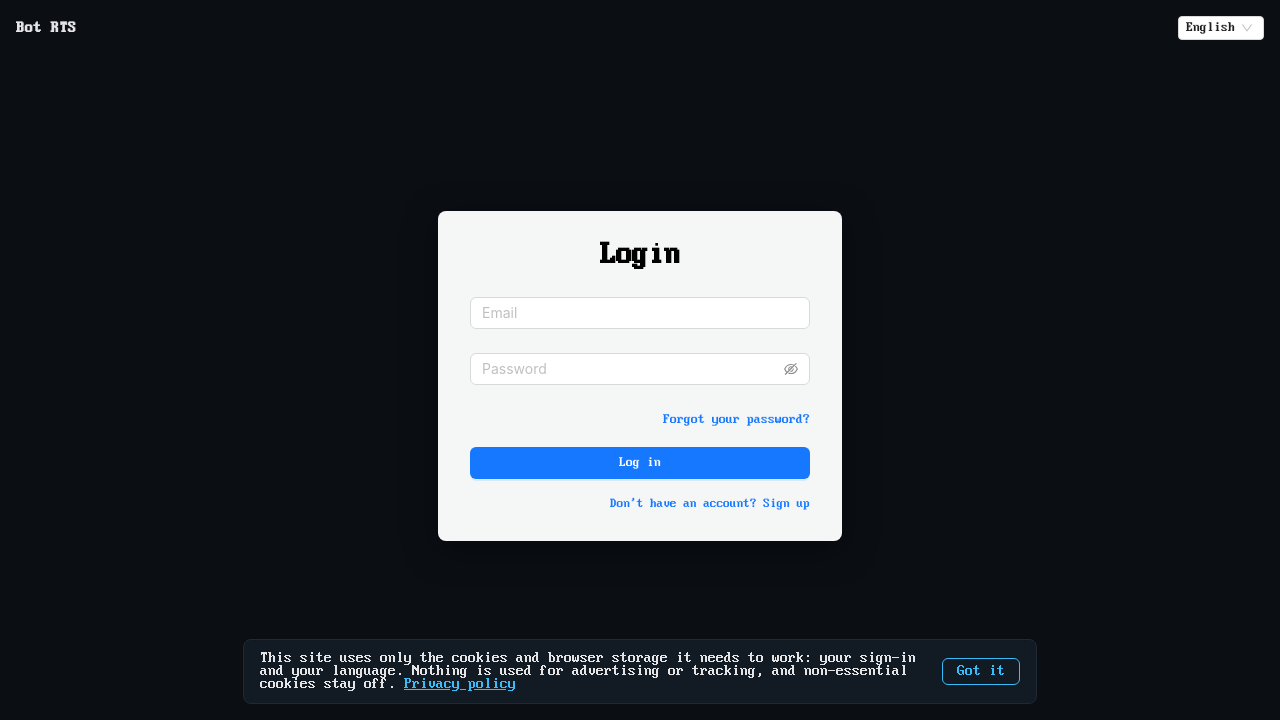
Test: AuthPage › switches between login and sign up
Check: the heading "Login" is shown, box [600,243,680,269]
Click the button "Don't have an account? Sign up".
click(710, 504)  # box [610,499,810,509]
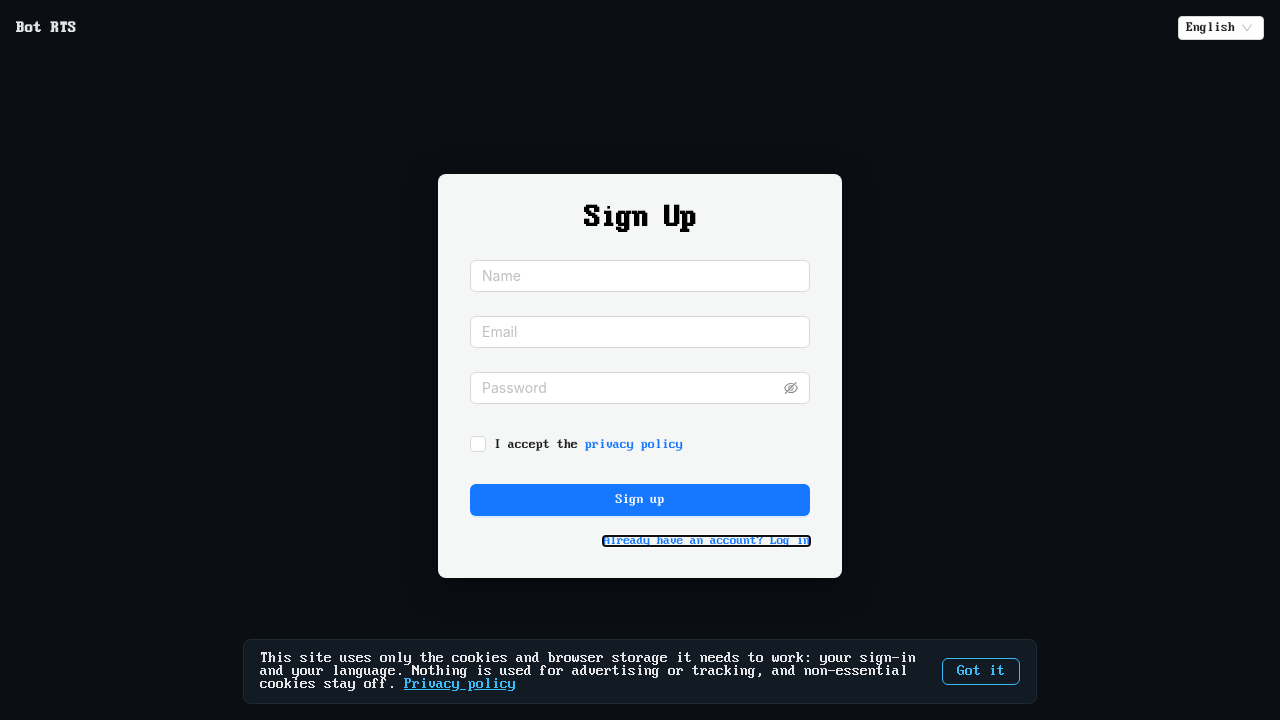
Check: the heading "Sign Up" is shown, box [584,206,696,232]
Click the button "Already have an account? Log in".
click(707, 541)  # box [603,536,810,546]
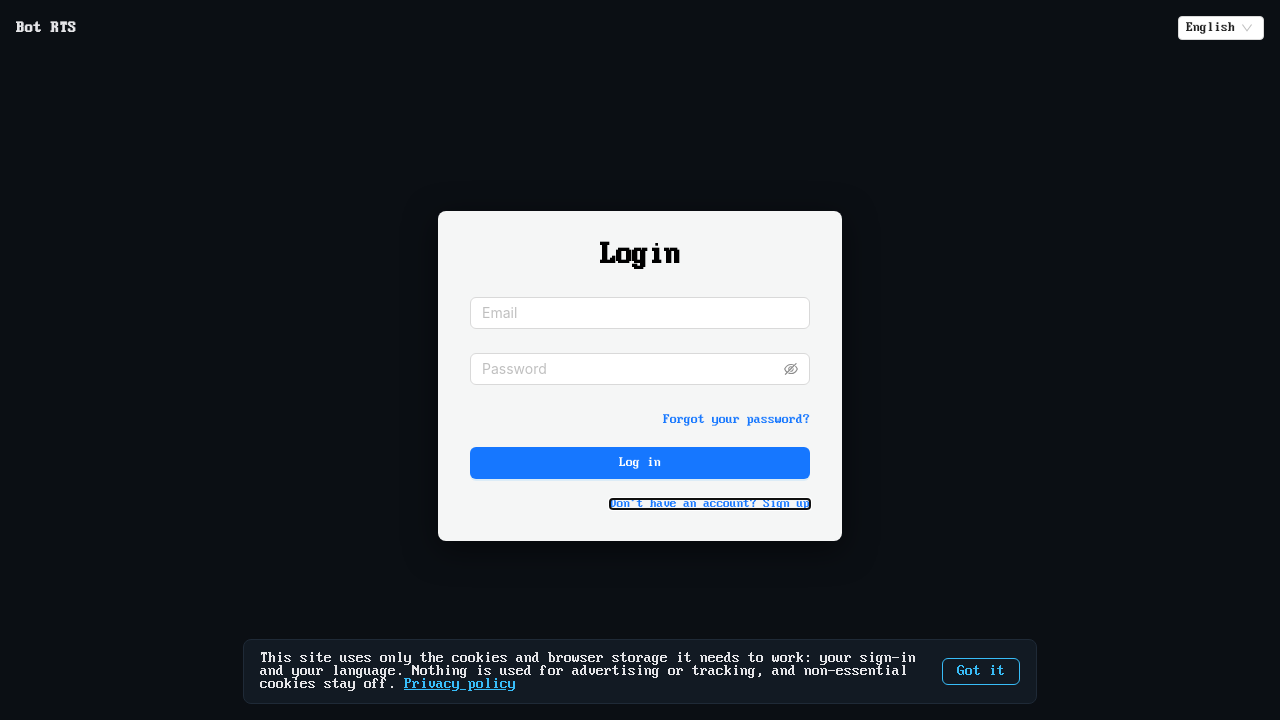
Check: the heading "Login" is shown, box [600,243,680,269]
